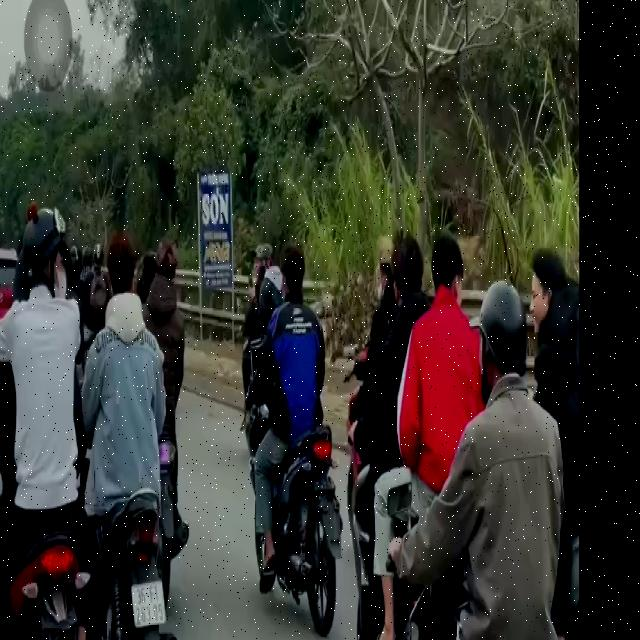helmet: (478, 277, 525, 419), (22, 200, 70, 330)
no_helmet: (530, 240, 568, 340), (427, 240, 468, 318), (394, 227, 425, 320), (280, 238, 306, 322)
